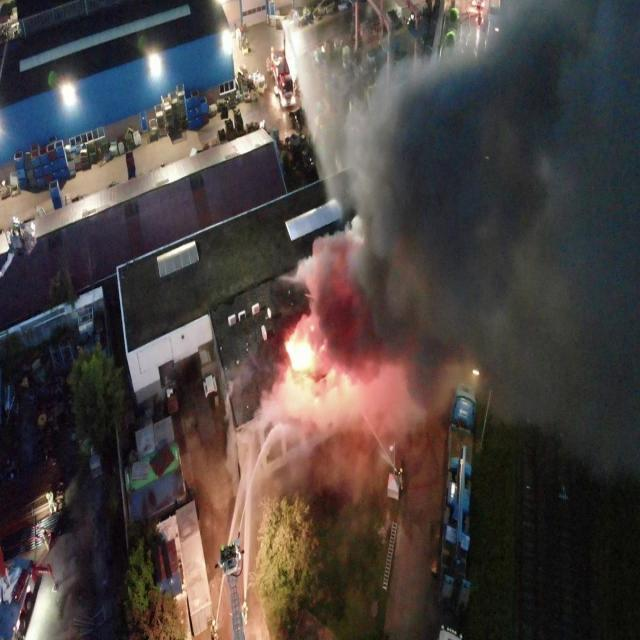Fire: (286, 340, 312, 371)
Smoke: (220, 0, 640, 496)
